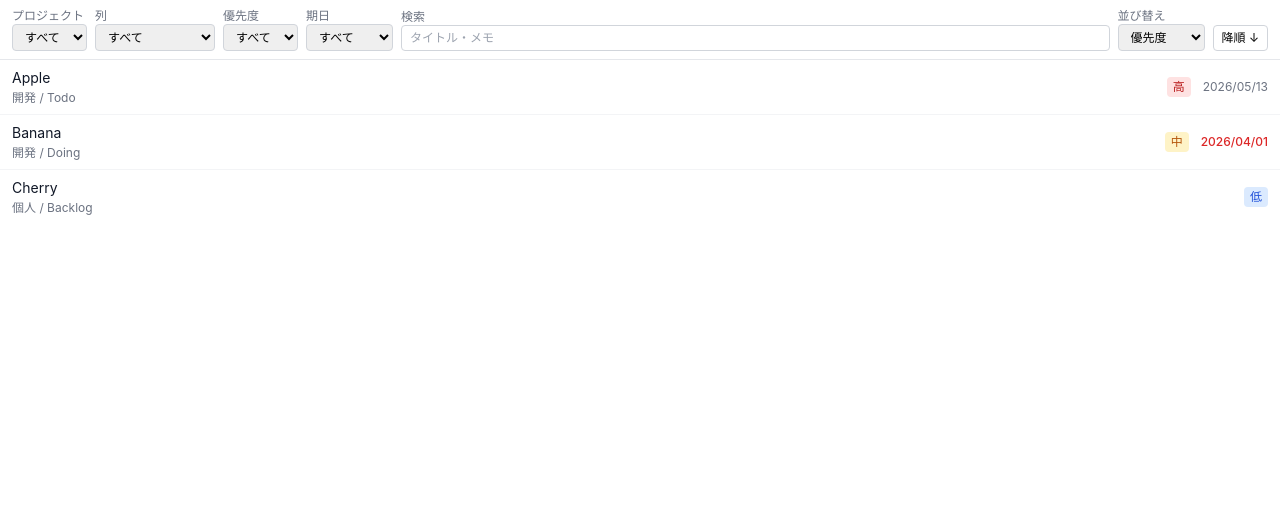
Test: AllTasksView › 該当タスクが0件の場合は空状態を表示
The image size is (1280, 505).
In the field labelled "検索": {"x": 755, "y": 38} [401,25,1110,51], type "存在しない"
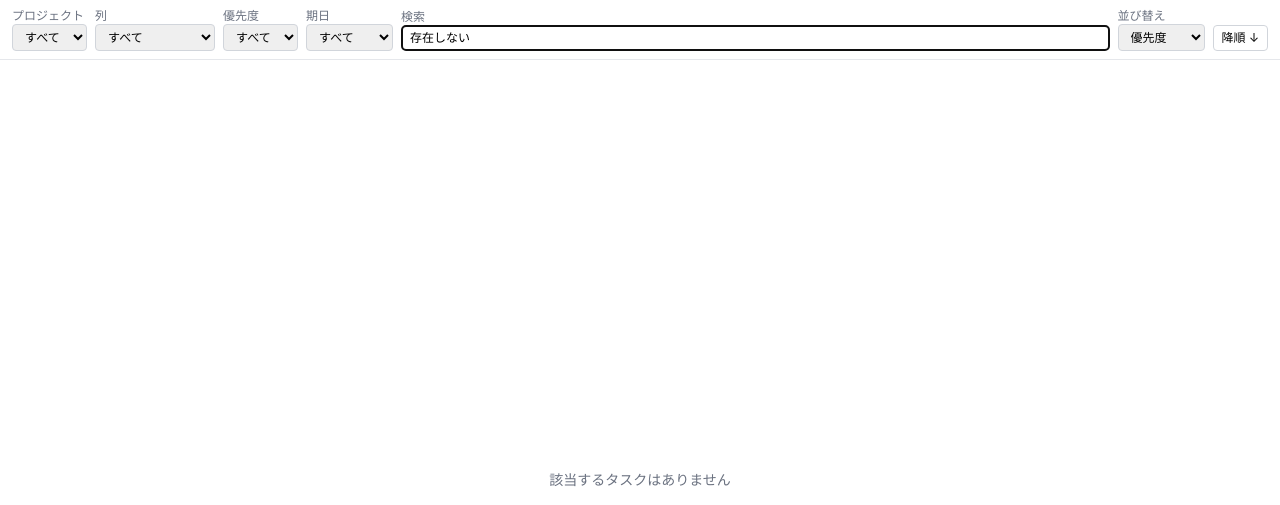
Expected: the text "該当するタスクはありません" is shown, [549,471,731,488]
